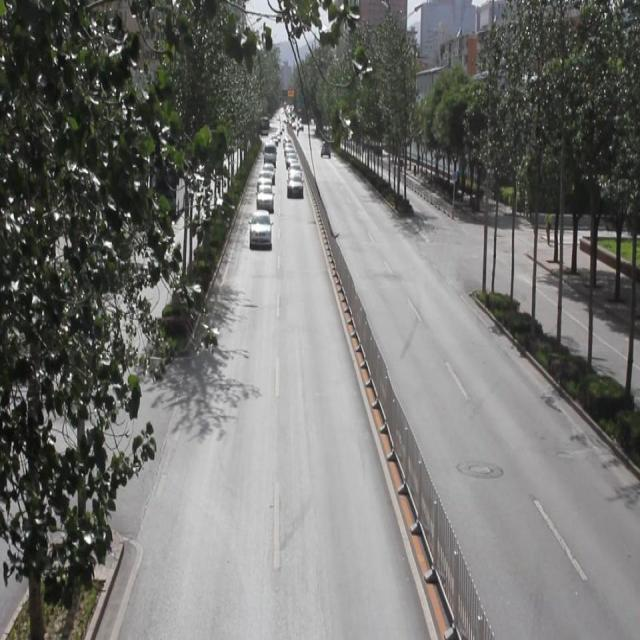car: (250, 208, 271, 249), (256, 183, 273, 214), (286, 172, 302, 198)
